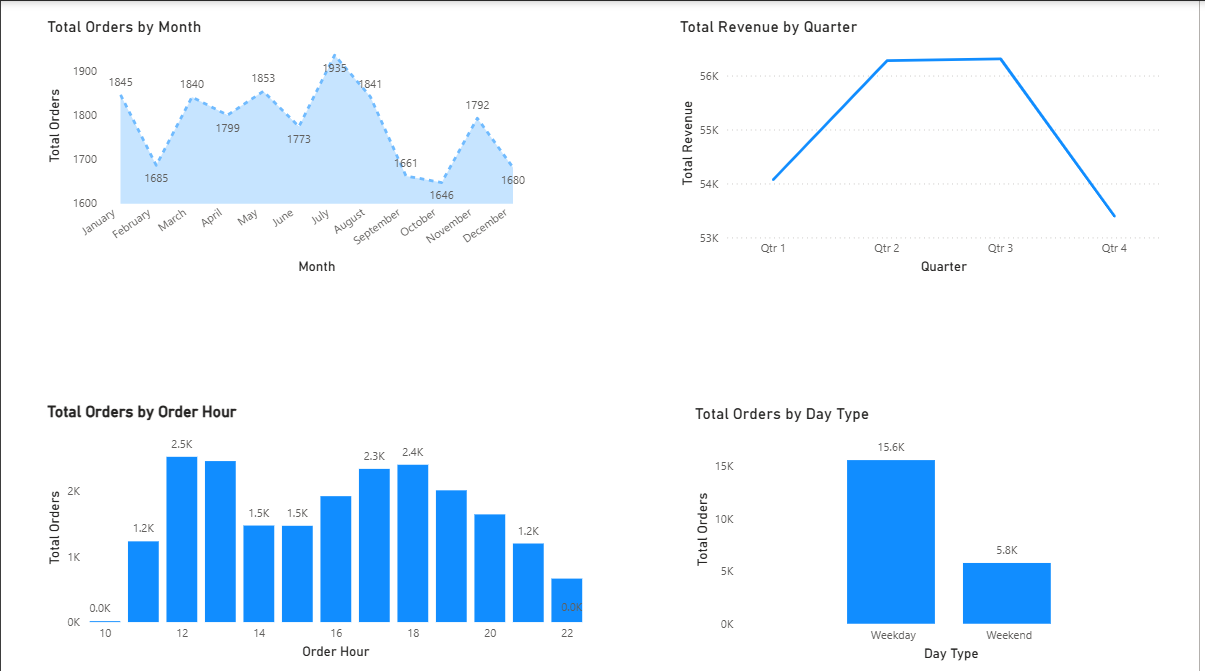

The page's visual inventory and layout, read from the dashboard file:
{"tool":"powerbi","page":{"name":"Time Analysis","canvas":[1280,720],"ordinal":1},"visuals":[{"type":"lineChart","fields":{"Category":["orders.date.Variation.Date Hierarchy.Month","orders.date.Variation.Date Hierarchy.Day"],"Y":["order_details.Total Orders"]},"box":[44.4,0,522.7,280],"z":0},{"type":"lineChart","fields":{"Category":["orders.date.Variation.Date Hierarchy.Year","orders.date.Variation.Date Hierarchy.Quarter","orders.date.Variation.Date Hierarchy.Month","orders.date.Variation.Date Hierarchy.Day"],"Y":["order_details.Total Revenue"]},"box":[720,0,522.7,280],"z":1000},{"type":"columnChart","fields":{"Category":["orders.Order Hour"],"Y":["order_details.Total Orders"]},"box":[44.4,428.5,581.4,279.1],"z":2000},{"type":"columnChart","fields":{"Category":["orders.Day Type"],"Y":["order_details.Total Orders"]},"box":[736,430.2,506.7,279.1],"z":3000}]}

Visuals, with their boxes in screenshot pixels (x1, y1, x2, y2), scaled from the page's 1280x720 canvas onto the 1205x671 screenshot:
lineChart - orders.date.Variation.Date Hierarchy.Month x orders.date.Variation.Date Hierarchy.Day: 42/0/534/261
lineChart - orders.date.Variation.Date Hierarchy.Year x orders.date.Variation.Date Hierarchy.Quarter: 678/0/1170/261
columnChart - orders.Order Hour x order_details.Total Orders: 42/399/589/659
columnChart - orders.Day Type x order_details.Total Orders: 693/401/1170/661
